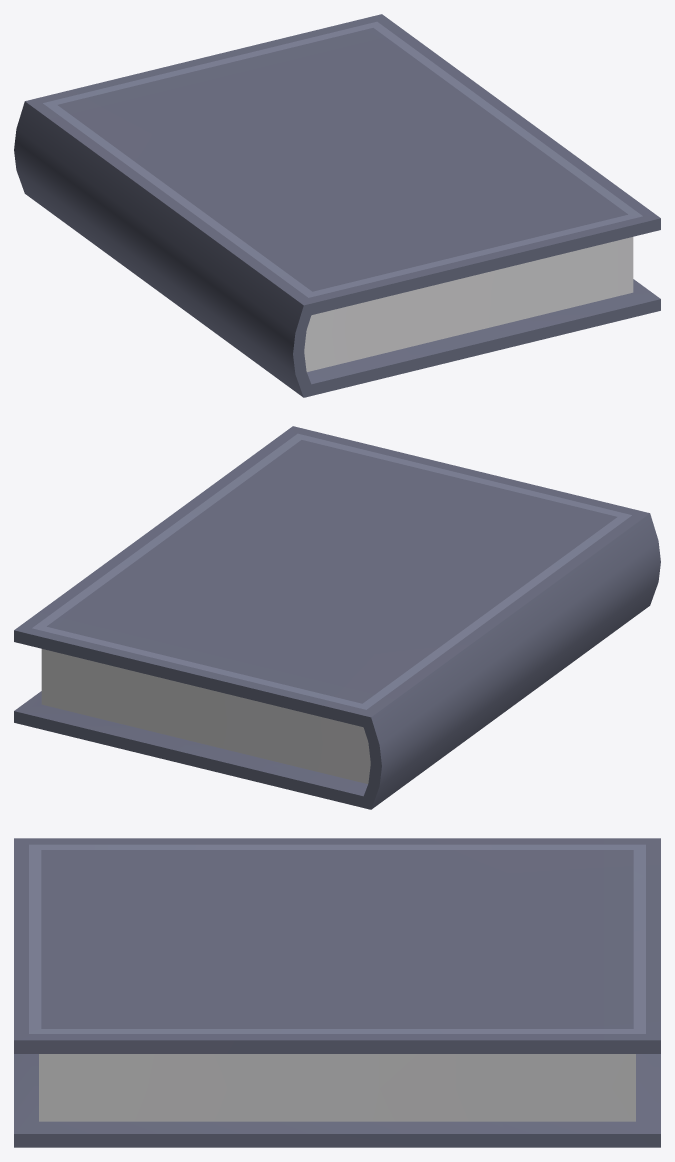
File: SM_Props_Book_04.fbx
The picture shows the model from 3 angles, top to bottom: view 1: azimuth 30°, elevation 25°; view 2: azimuth 150°, elevation 25°; view 3: azimuth 270°, elevation 25°; orthographic projection. The views are drawn at different scales.
Parts seen in each view (by area): view 1: SM_Props_Book_04; view 2: SM_Props_Book_04; view 3: SM_Props_Book_04.
Part boxes in pixels (box(x1,y1,x2,y2)): SM_Props_Book_04: box(14, 14, 660, 397); SM_Props_Book_04: box(14, 426, 660, 809); SM_Props_Book_04: box(14, 838, 660, 1147).
Size of the model in its own units: 0.2639 by 0.0633 by 0.3465.
